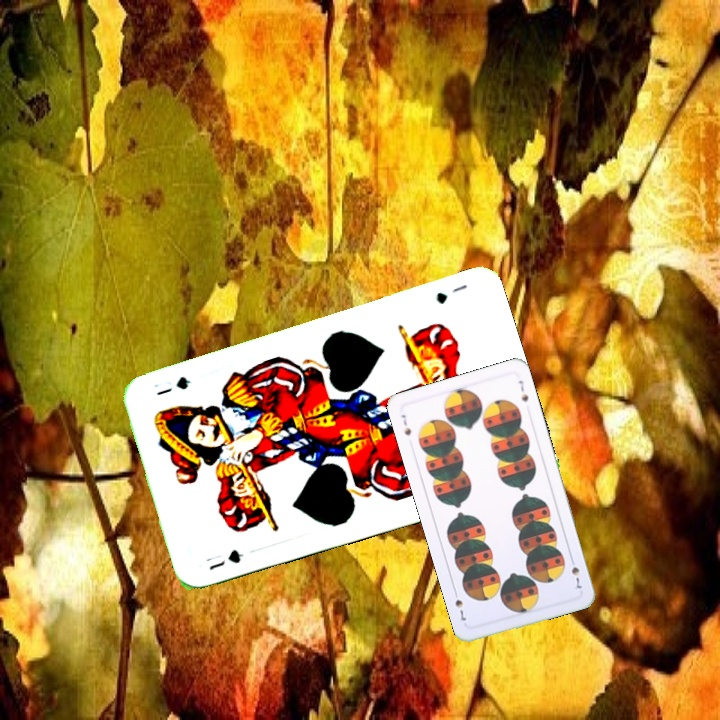GU: (205, 545, 246, 573), (432, 280, 470, 307)
S7: (566, 553, 585, 593), (397, 410, 414, 438)
